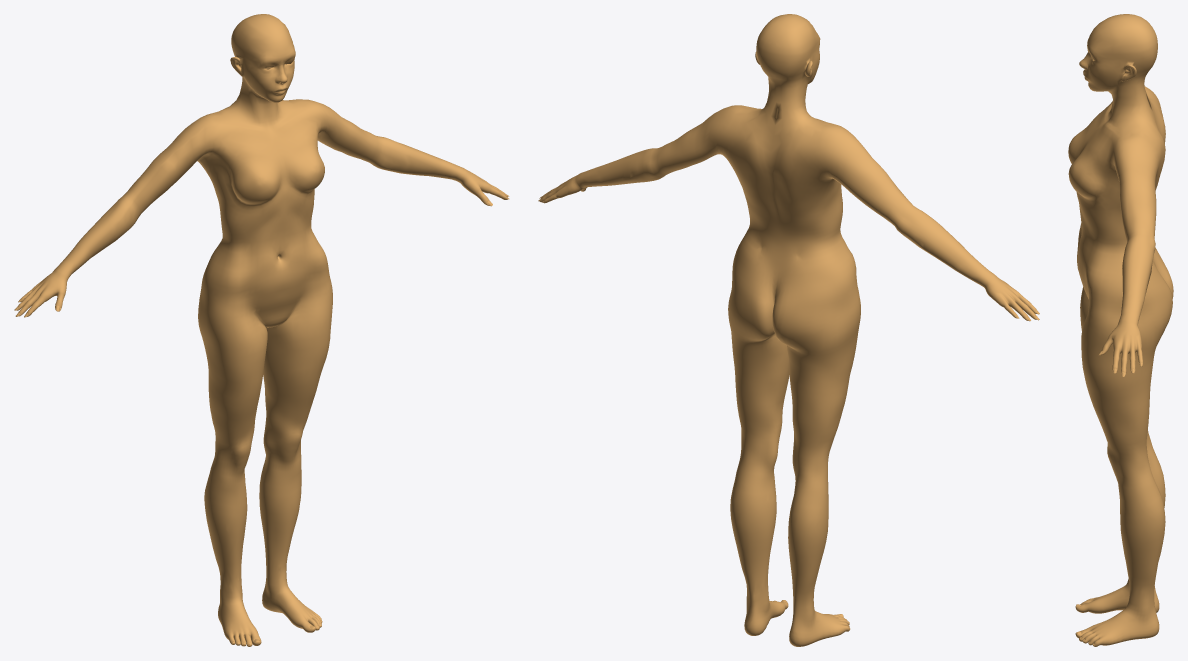
File: female_S_3.glb
3 views of the same model, side by side, from view 1: azimuth 30°, elevation 25°; view 2: azimuth 150°, elevation 25°; view 3: azimuth 270°, elevation 25° (orthographic).
Visible parts, largest first — view 1: Body; view 2: Body; view 3: Body.
Boxes of the visible parts, left/top/right/bottom form: Body: left=17, top=14, right=508, bottom=646; Body: left=539, top=14, right=1037, bottom=646; Body: left=1068, top=14, right=1173, bottom=646.
Size of the model in its own units: 1.58 by 1.85 by 0.2894.
